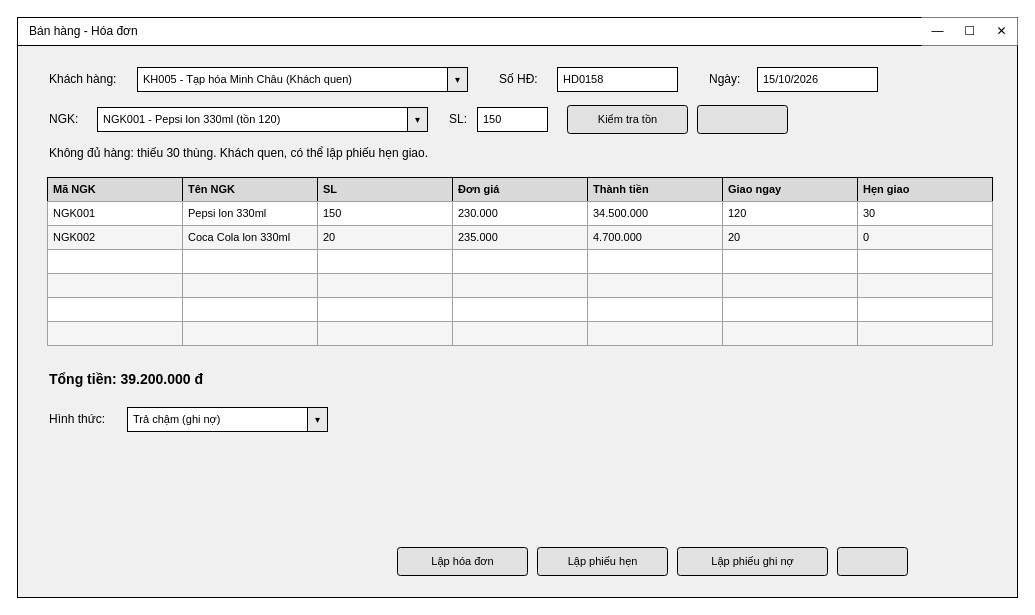
Some shapes in this 1035 by 615 pixel diagram are drawn without their labels. The shapes that lost their labels are listed below. From the top down, each one's centre as x and y in pixels, then its label:
At (x=742, y=119): "Thêm".
At (x=872, y=561): "In".
